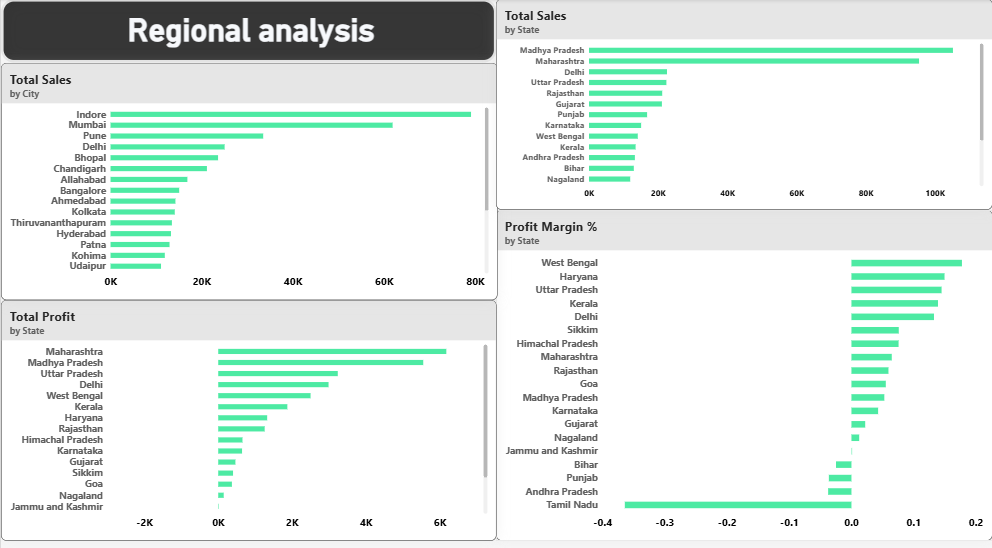

This screenshot's page, from the dashboard's own definition file:
{"tool":"powerbi","page":{"name":"Regional analysis","canvas":[1920,1080],"ordinal":3},"visuals":[{"type":"textbox","title":"Regional analysis","box":[0,0,958.8,123.3],"z":0},{"type":"clusteredBarChart","fields":{"Category":["Table1_1.State"],"Y":["Table1_1.Profit Margin %"]},"box":[958.8,408.2,960.9,639.9],"z":1000},{"type":"clusteredBarChart","fields":{"Category":["Table1_1.State"],"Y":["Table1_1.Total Profit"]},"box":[0,582.5,958.8,465.6],"z":2000},{"type":"clusteredBarChart","fields":{"Category":["Table1_1.City"],"Y":["Table1_1.Total Sales"]},"box":[0,123.3,960.9,459.2],"z":3000},{"type":"barChart","fields":{"Category":["Table1_1.State"],"Y":["Table1_1.Total Sales"]},"box":[958.8,0,960.9,408.2],"z":4000}]}

Visuals, with their boxes in screenshot pixels (x1, y1, x2, y2), scaled from the page's 1920x1080 canvas onto the 992x548 screenshot:
"Regional analysis" textbox: x1=0 y1=0 x2=495 y2=63
clusteredBarChart - Table1_1.State x Table1_1.Profit Margin %: x1=495 y1=207 x2=991 y2=532
clusteredBarChart - Table1_1.State x Table1_1.Total Profit: x1=0 y1=296 x2=495 y2=532
clusteredBarChart - Table1_1.City x Table1_1.Total Sales: x1=0 y1=63 x2=496 y2=296
barChart - Table1_1.State x Table1_1.Total Sales: x1=495 y1=0 x2=991 y2=207
